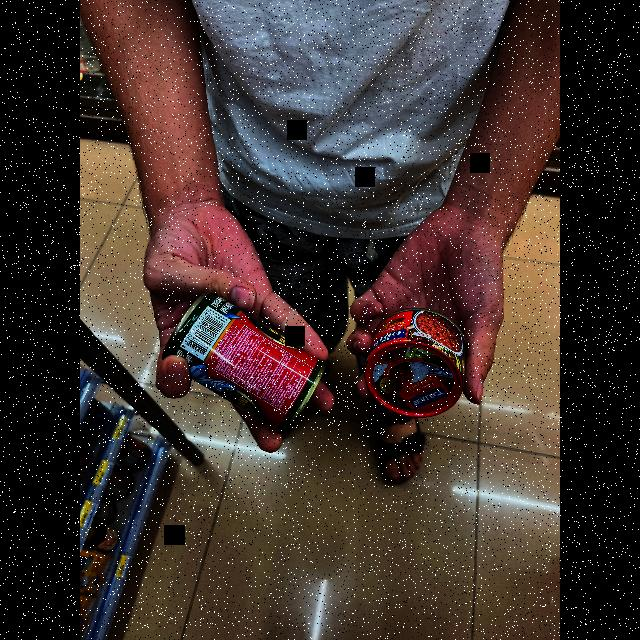can: (165, 287, 333, 433), (362, 305, 474, 419)
